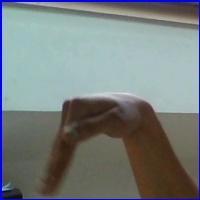A: (33, 89, 157, 187)
